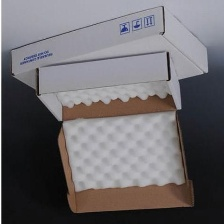book: (28, 49, 197, 220), (6, 3, 213, 101)
foam_box: (58, 108, 190, 196), (49, 77, 175, 111)
